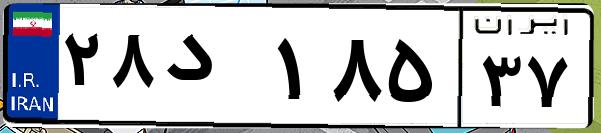1: (270, 28, 330, 110)
2: (57, 26, 110, 100)
3: (475, 38, 525, 113)
5: (385, 28, 445, 110)
7: (525, 38, 570, 115)
8: (330, 28, 385, 110), (110, 28, 158, 98)
د: (158, 20, 270, 120)
